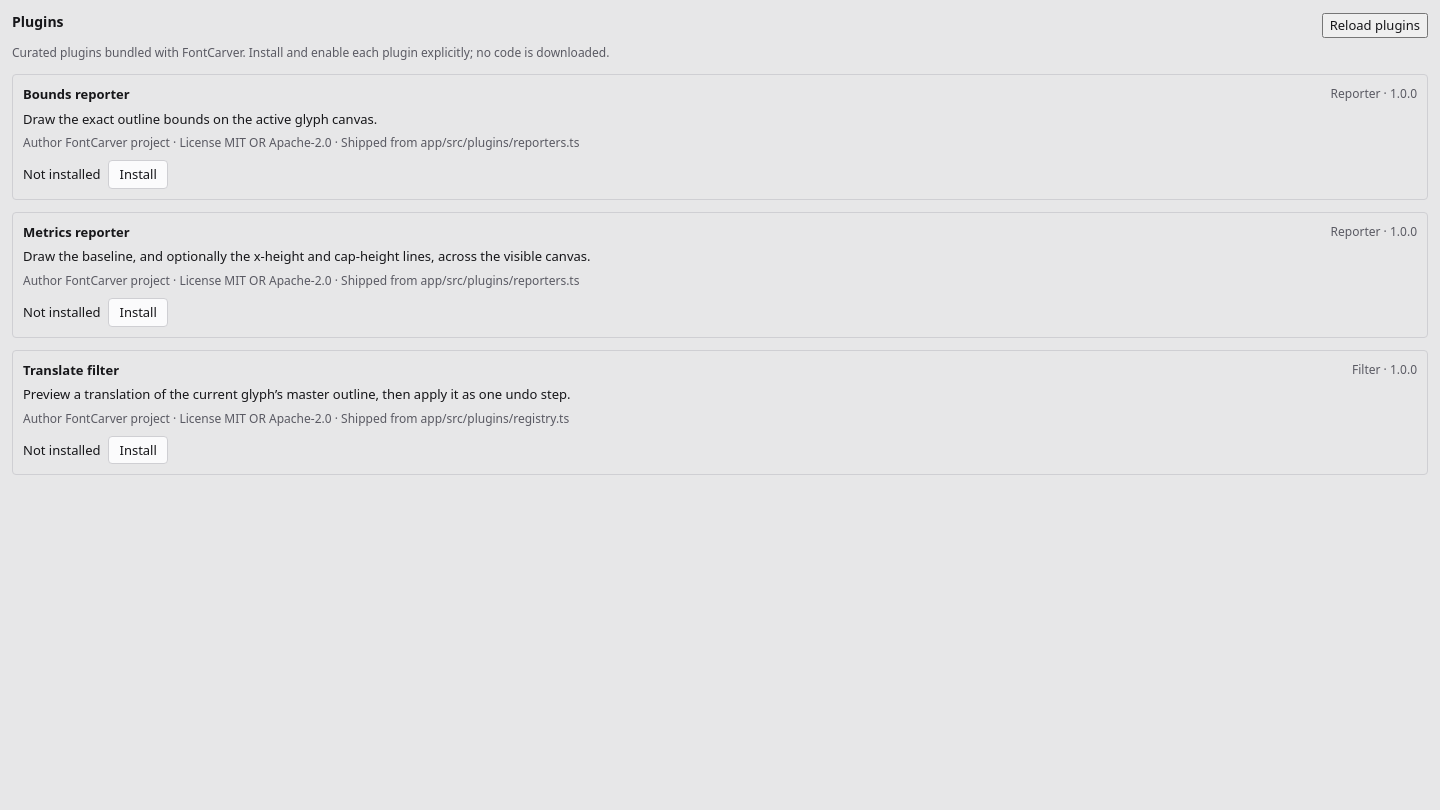
Test: requires installation and enabling before exposing filter controls
The width and height of the screenshot is (1440, 810).
Click the button with aria-label "Install Translate filter" at (138, 450), box [108, 436, 168, 464]
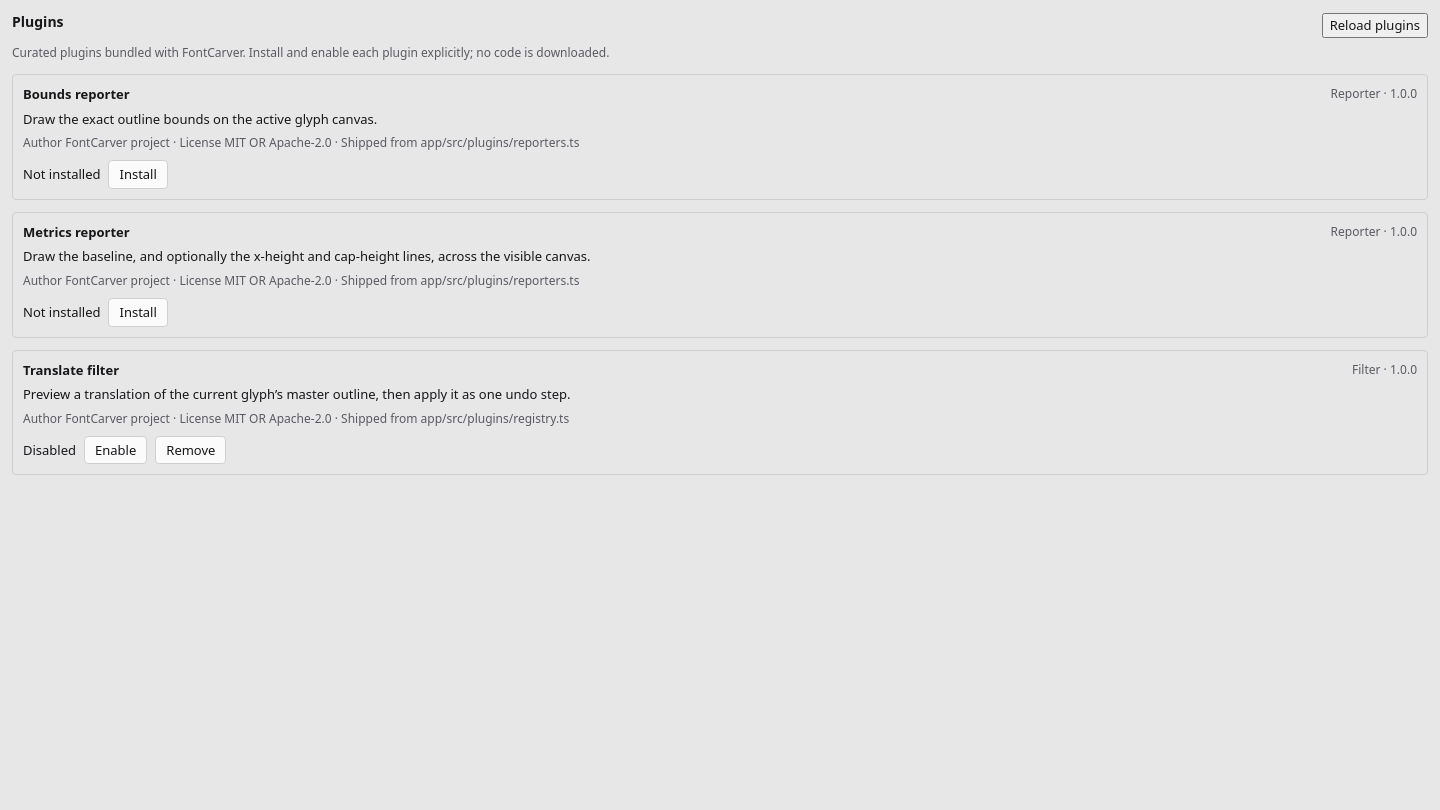
expect the text "Disabled" is shown: met, box [23, 441, 76, 459]
Click the button with aria-label "Enable Translate filter" at (116, 450), box [84, 436, 147, 464]
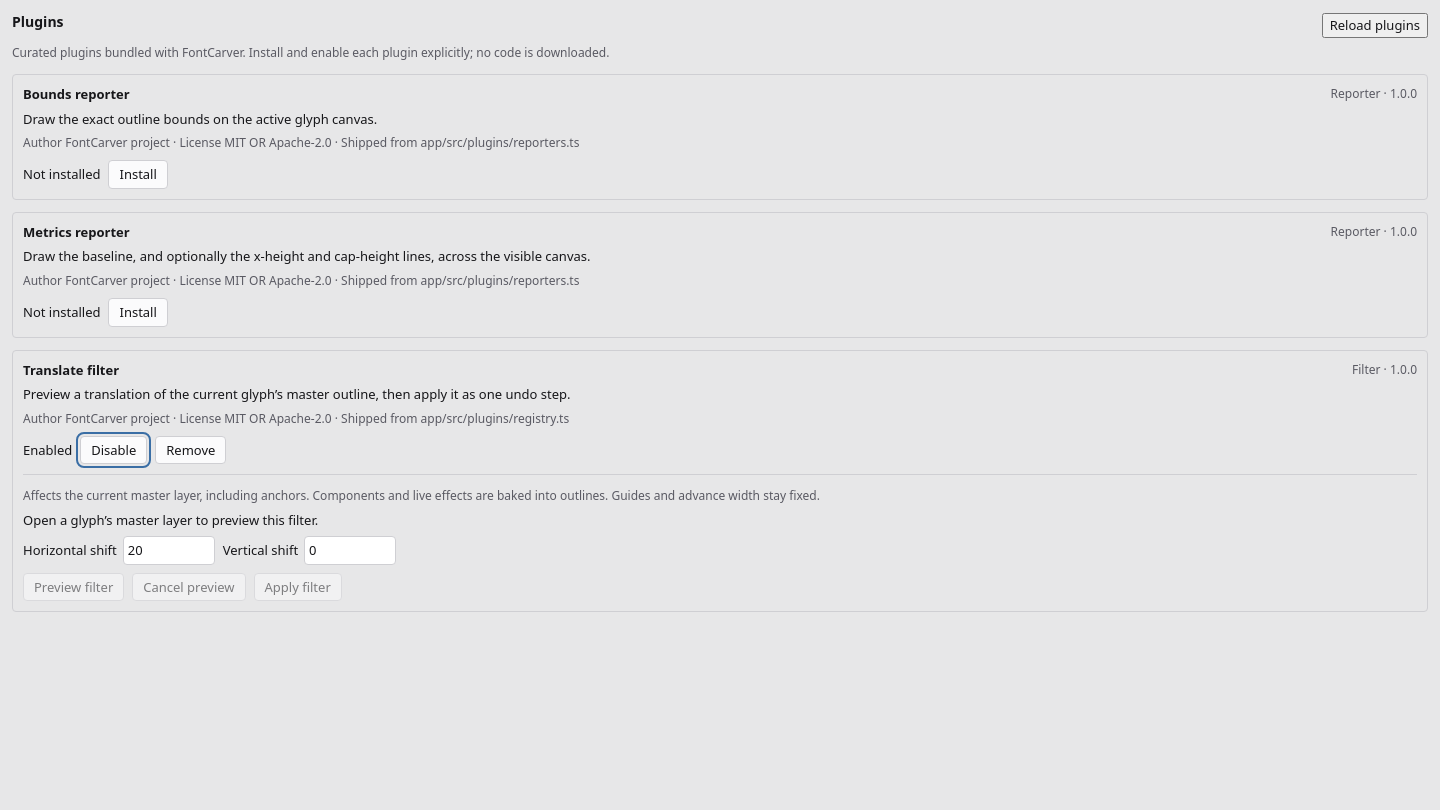
expect the number field labelled "Horizontal shift" holds "20": met, box [123, 536, 215, 564]
expect the button "Preview filter" is disabled: met, box [23, 572, 124, 601]
expect the message shows "Open a glyph’s master layer": met, box [23, 511, 318, 529]
Click the button with aria-label "Disable Translate filter" at (114, 450), box [80, 436, 147, 464]
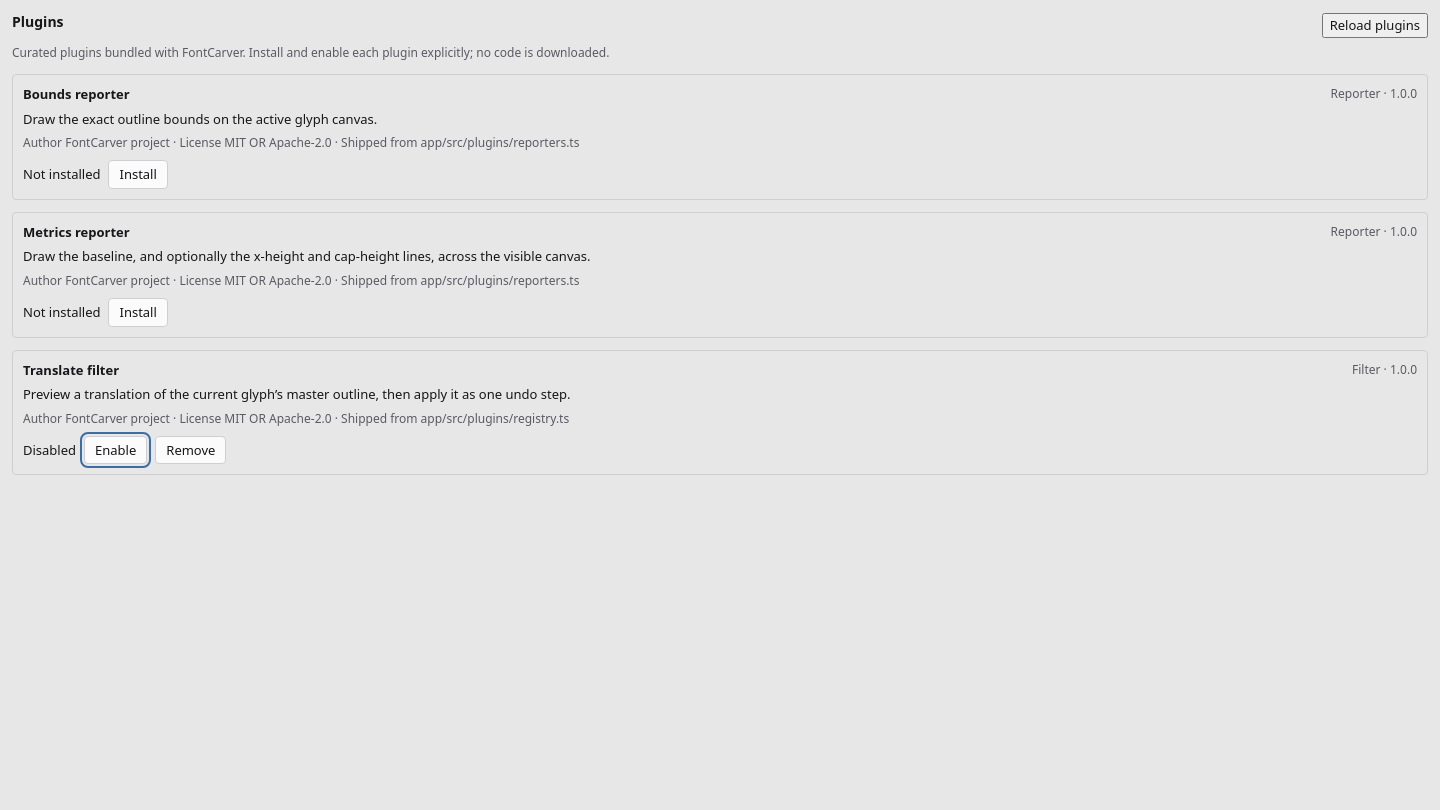
Click the button with aria-label "Remove Translate filter" at (191, 450), box [155, 436, 226, 464]
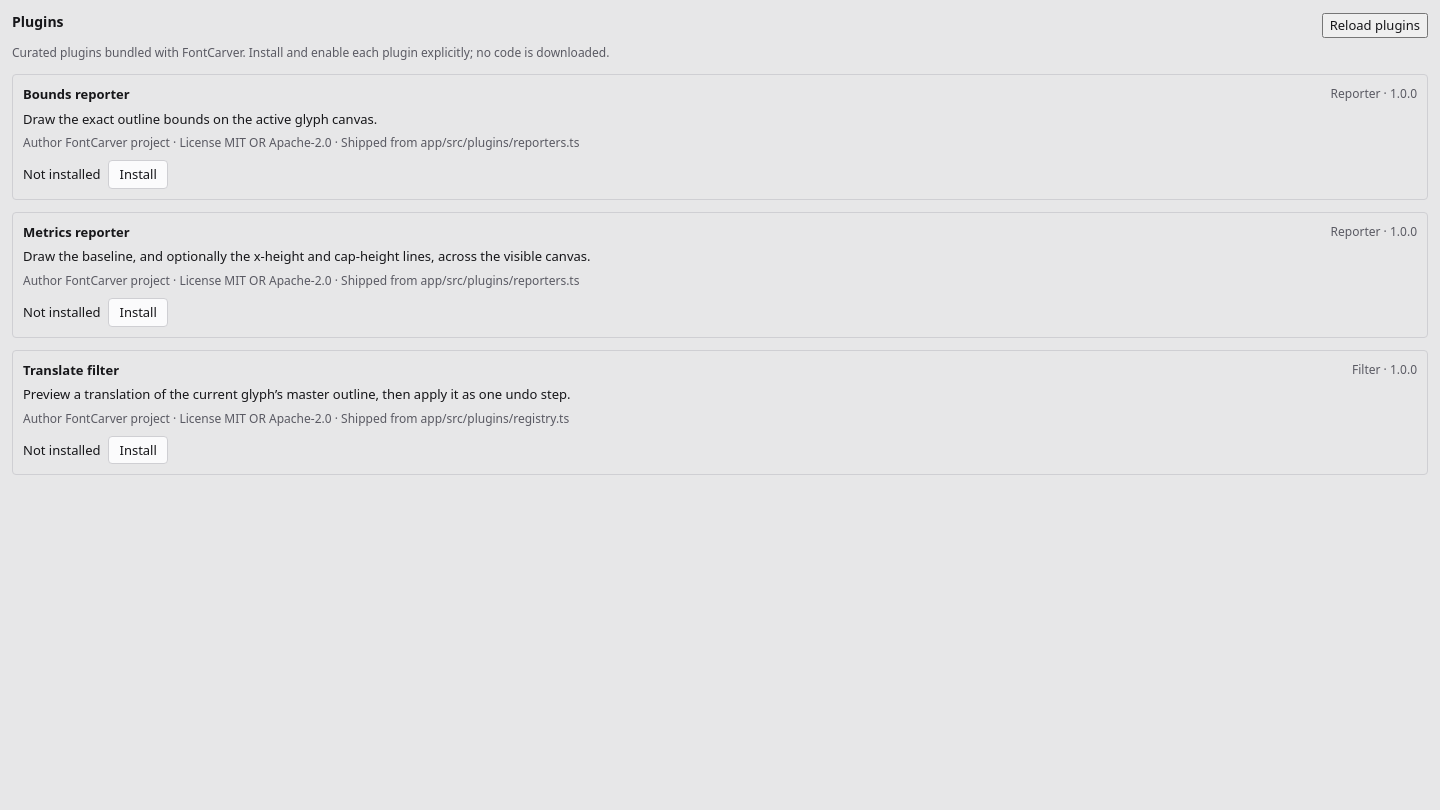
expect the button with aria-label "Install Translate filter" is enabled: met, box [108, 436, 168, 464]
